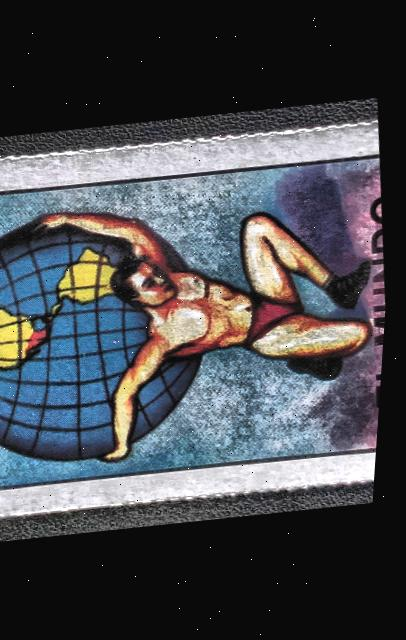El Mundo: (0, 130, 399, 505)
